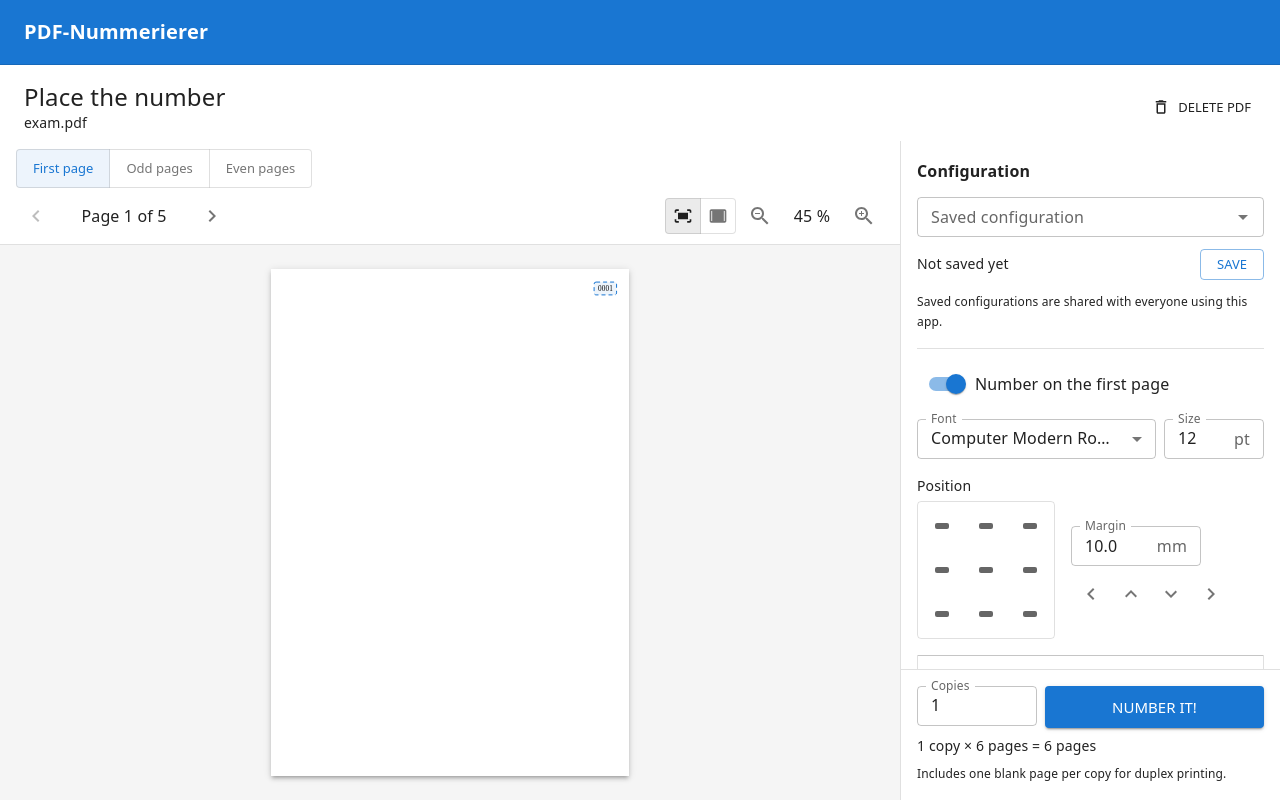
number placement › shows the number on every page of a type
Check: the text "exam.pdf" is shown, box [24,113,87,132]
Check: the dropdown named "Font" is enabled, box [931,427,1131,449]
Click the button "Odd pages".
click(160, 168)  # box [109,149,210,188]
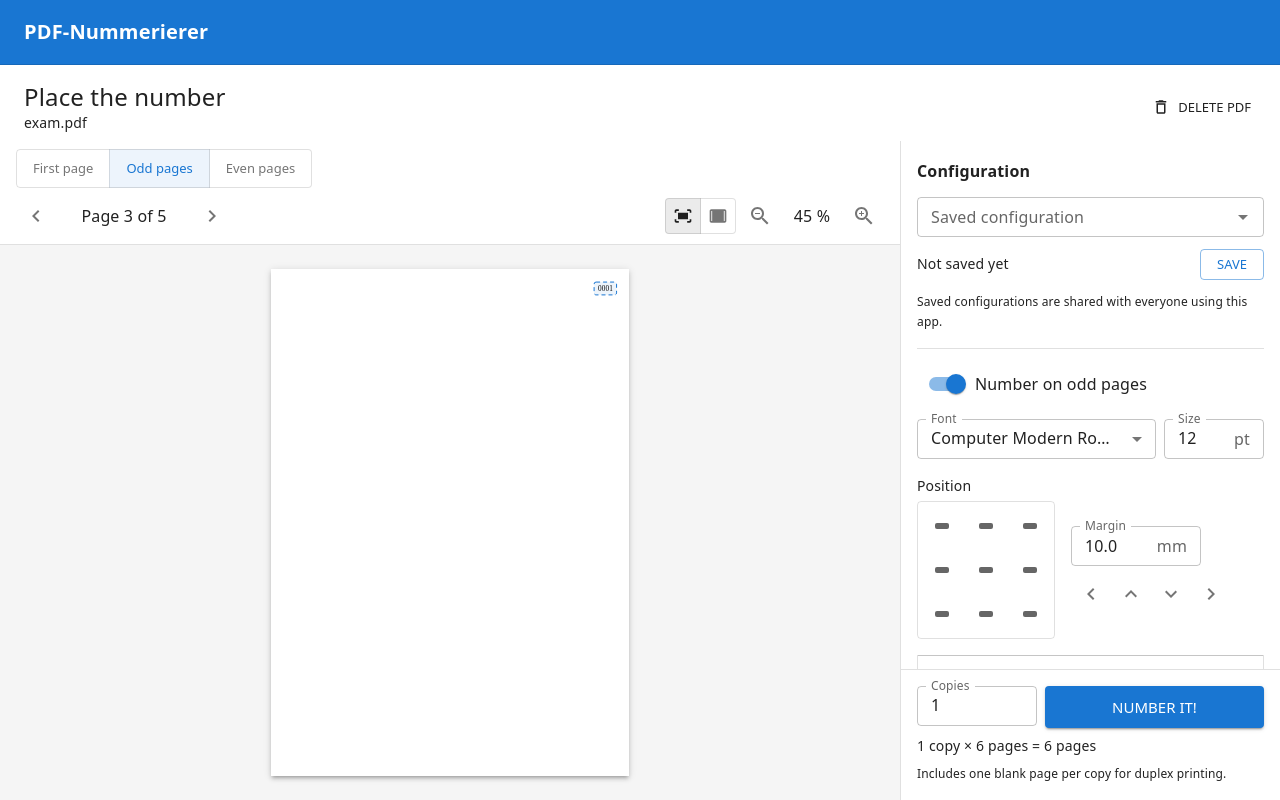
Click the button named "Next page".
click(212, 216)  # box [192,196,232,236]
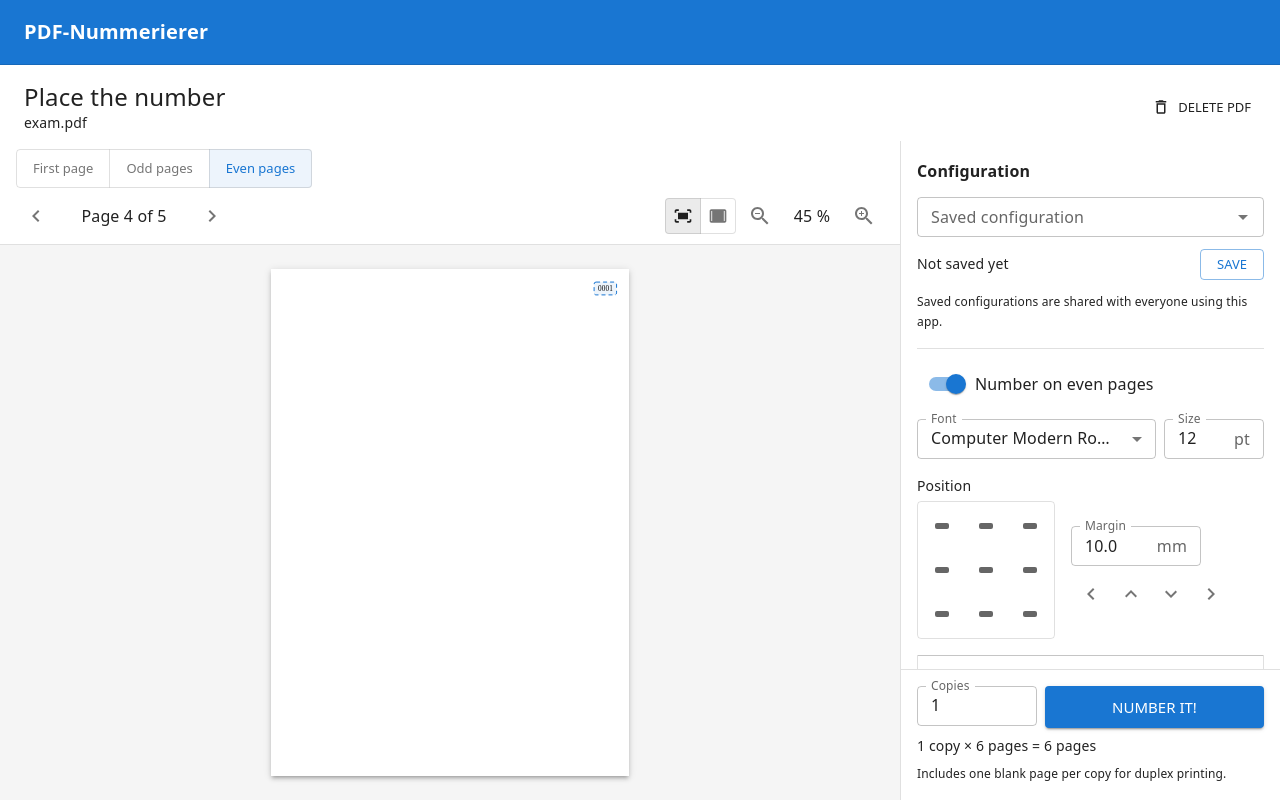
Click the button named "Next page".
click(212, 216)  # box [192,196,232,236]
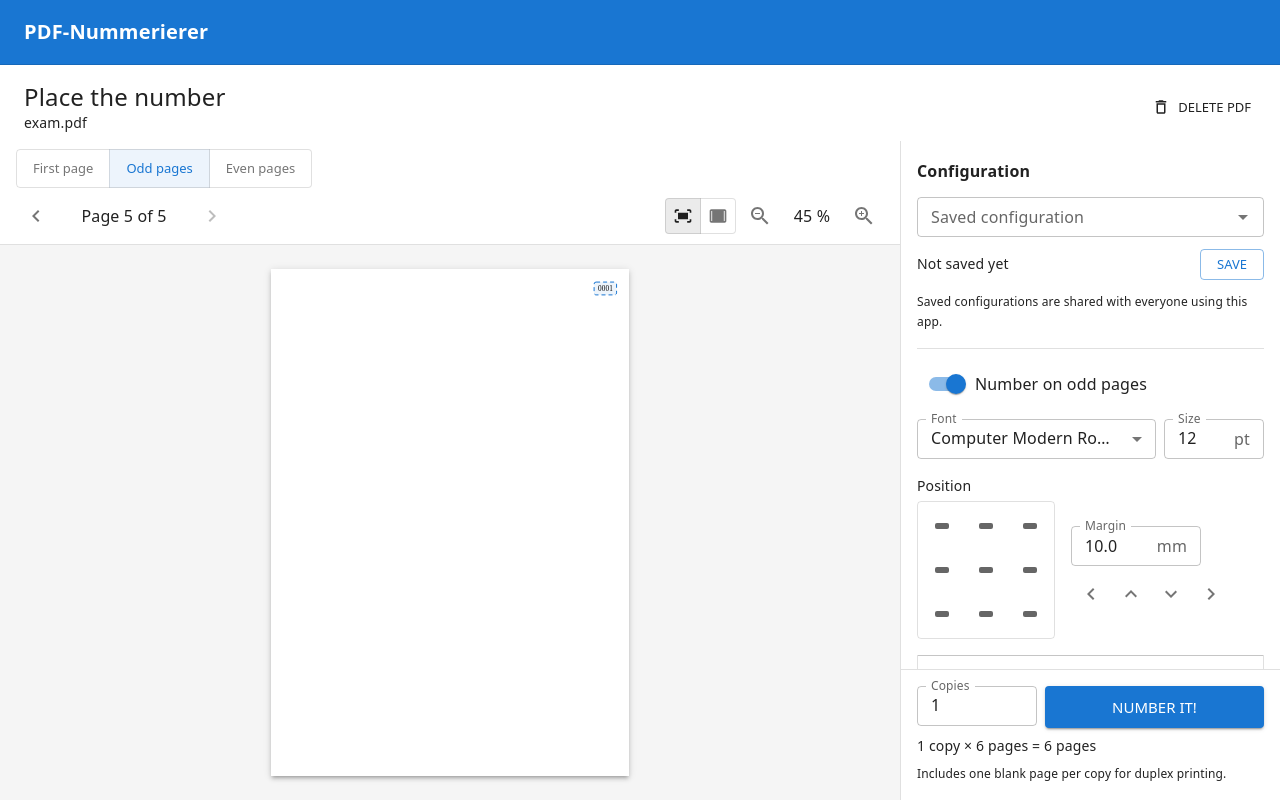
Check: the message reads "Page 5 of 5", box [81,205,166,227]
